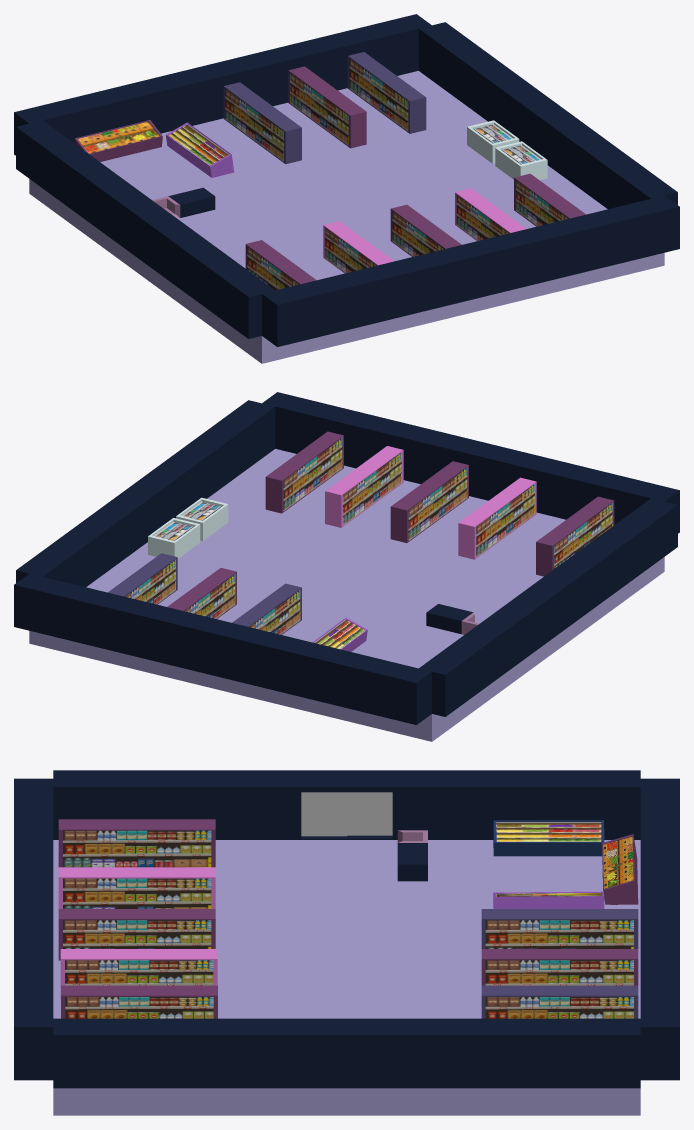
File: Supermarkt-GameJam (2).fbx
3 renders of one model, top to bottom at view 1: azimuth 30°, elevation 25°; view 2: azimuth 150°, elevation 25°; view 3: azimuth 270°, elevation 25°, orthographic. The views are drawn at different scales.
Visible parts, largest first — view 1: Wände, Boden, Cube.002, Cube, Cube.001, Obst2, Cube.003, Cube.004, Cube.005, Cube.006, Obst.001, Cube.007 (+3 smaller); view 2: Wände, Boden, Cube.003, Cube.006, Cube.004, Cube.005, Cube.007, Cube.002, Cube, Cube.001, freezer2, freezer1 (+2 smaller); view 3: Wände, Boden, Cube.007, Cube.006, Cube.005, Cube, Cube.004, Cube.001, Cube.002, Cube.003, Obst, Obst2 (+2 smaller).
Boxes of the visible parts, x1=… form: Wände: x1=14, y1=14, x2=679, y2=346; Boden: x1=29, y1=71, x2=664, y2=363; Cube.002: x1=347, y1=52, x2=426, y2=133; Cube: x1=223, y1=82, x2=301, y2=164; Cube.001: x1=288, y1=66, x2=366, y2=148; Obst2: x1=74, y1=120, x2=162, y2=161; Cube.003: x1=514, y1=173, x2=585, y2=226; Cube.004: x1=455, y1=188, x2=526, y2=240; Cube.005: x1=390, y1=204, x2=461, y2=256; Cube.006: x1=323, y1=221, x2=393, y2=273; Obst.001: x1=166, y1=122, x2=234, y2=177; Cube.007: x1=245, y1=240, x2=316, y2=290; Wände: x1=14, y1=392, x2=679, y2=724; Boden: x1=29, y1=449, x2=664, y2=741; Cube.003: x1=265, y1=431, x2=343, y2=513; Cube.006: x1=458, y1=477, x2=536, y2=559; Cube.004: x1=325, y1=446, x2=403, y2=527; Cube.005: x1=390, y1=461, x2=468, y2=542; Cube.007: x1=536, y1=496, x2=614, y2=576; Cube.002: x1=108, y1=553, x2=177, y2=604; Cube: x1=232, y1=583, x2=301, y2=634; Cube.001: x1=167, y1=568, x2=236, y2=618; freezer2: x1=148, y1=518, x2=200, y2=558; freezer1: x1=176, y1=497, x2=228, y2=540; Wände: x1=14, y1=770, x2=679, y2=1088; Boden: x1=53, y1=840, x2=640, y2=1115; Cube.007: x1=58, y1=819, x2=215, y2=867; Cube.006: x1=58, y1=867, x2=215, y2=908; Cube.005: x1=58, y1=909, x2=215, y2=960; Cube: x1=481, y1=909, x2=638, y2=948; Cube.004: x1=60, y1=949, x2=217, y2=1000; Cube.001: x1=481, y1=949, x2=638, y2=985; Cube.002: x1=481, y1=985, x2=638, y2=1018; Cube.003: x1=61, y1=985, x2=217, y2=1018; Obst: x1=493, y1=820, x2=604, y2=856; Obst2: x1=602, y1=834, x2=638, y2=904.
Size of the model in its own units: 3200 by 500 by 3400.
Materials: 27 (27 with a texture image).
